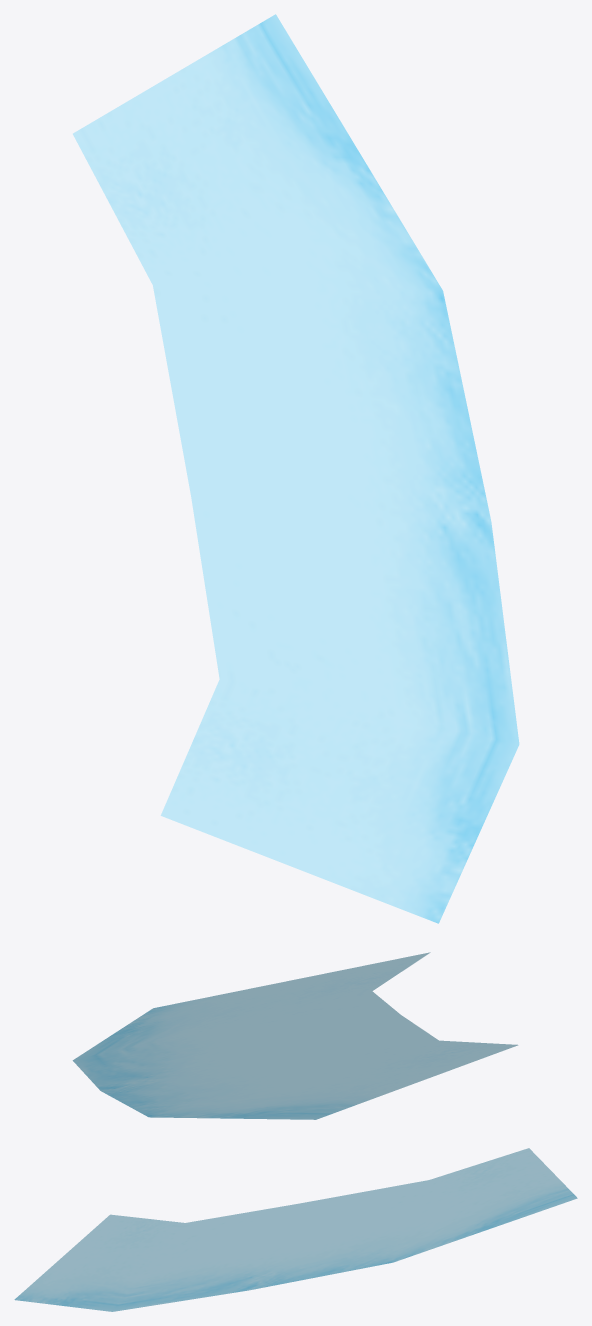
The model's file is Water Shore.FBX.
3 views of the same model, one above another, from view 1: azimuth 30°, elevation 25°; view 2: azimuth 210°, elevation 25°; view 3: azimuth 270°, elevation 25° (orthographic). The views are drawn at different scales.
Parts seen in each view (by area): view 1: Water Shore; view 2: Water Shore; view 3: Water Shore.
Boxes of the visible parts, box(x1,y1,x2,y2) form: Water Shore: box(73, 14, 519, 923); Water Shore: box(72, 952, 518, 1119); Water Shore: box(14, 1148, 577, 1311).
Size of the model in its own units: 211 by 354 by 138.
